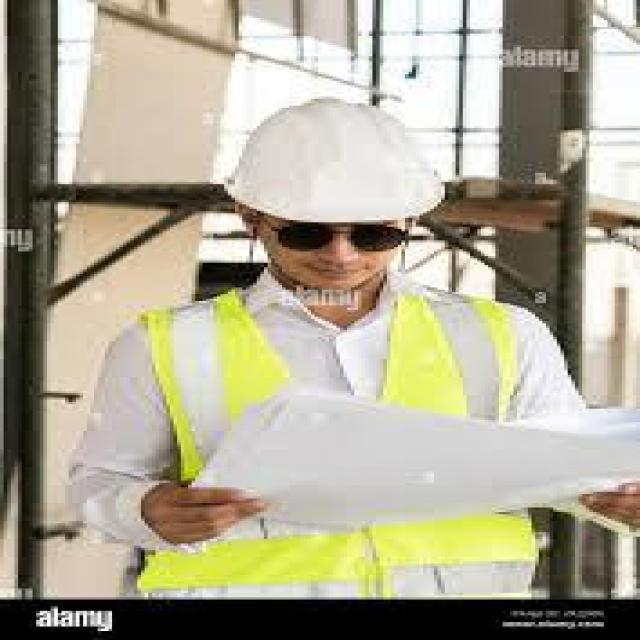safety_helmet: (126, 281, 551, 596)
